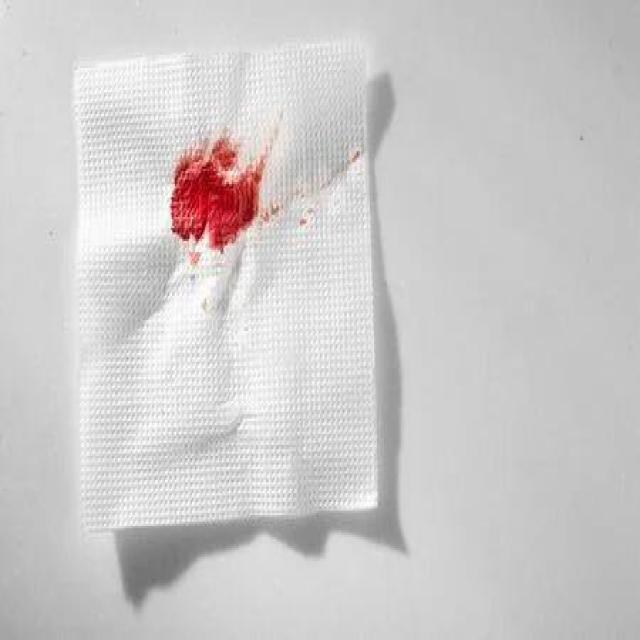flood: (164, 143, 262, 254)
